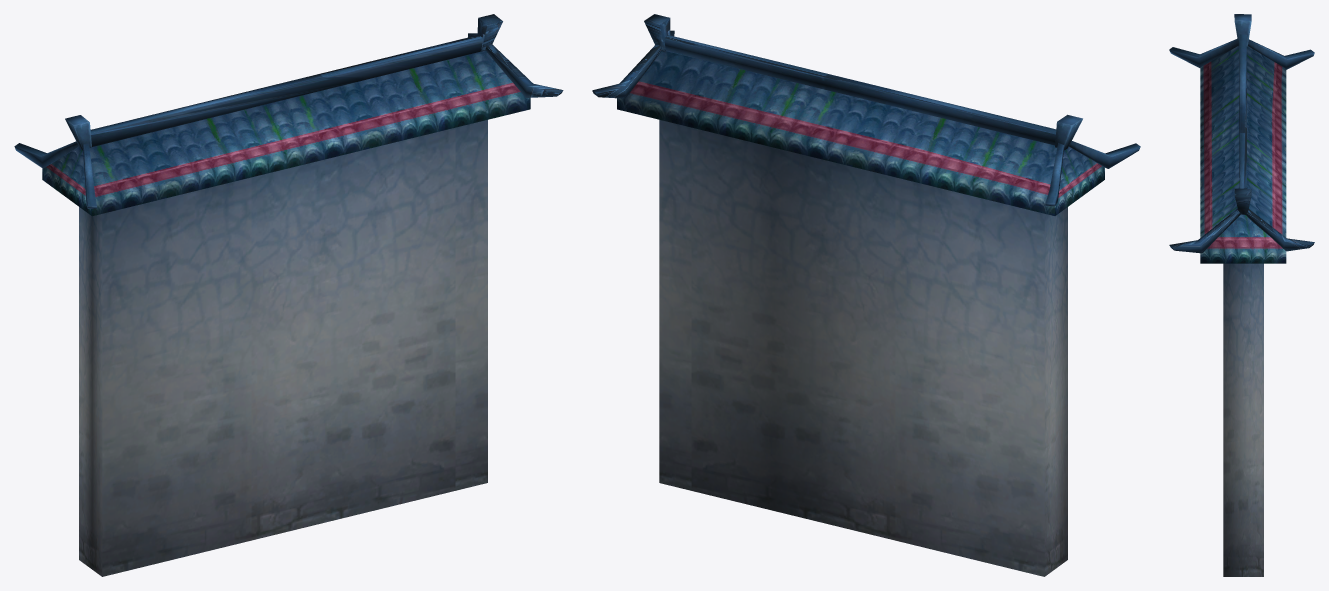
File: environment_building_qinghuacifangqiang_01_a.FBX
3 renders of one model, left to right at view 1: azimuth 30°, elevation 25°; view 2: azimuth 150°, elevation 25°; view 3: azimuth 270°, elevation 25°, orthographic. The views are drawn at different scales.
Parts seen in each view (by area): view 1: environment_building_qinghuacifangqiang_01_a2, environment_building_qinghuacifangqiang_01_a0, environment_building_qinghuacifangqiang_01_a1; view 2: environment_building_qinghuacifangqiang_01_a2, environment_building_qinghuacifangqiang_01_a0, environment_building_qinghuacifangqiang_01_a1; view 3: environment_building_qinghuacifangqiang_01_a0, environment_building_qinghuacifangqiang_01_a2, environment_building_qinghuacifangqiang_01_a1.
Part boxes in pixels (x1,y1,x2,y2): environment_building_qinghuacifangqiang_01_a2: (79,120,487,576); environment_building_qinghuacifangqiang_01_a0: (42,50,530,216); environment_building_qinghuacifangqiang_01_a1: (14,14,563,208); environment_building_qinghuacifangqiang_01_a2: (659,120,1067,576); environment_building_qinghuacifangqiang_01_a0: (617,51,1104,215); environment_building_qinghuacifangqiang_01_a1: (592,14,1140,206); environment_building_qinghuacifangqiang_01_a0: (1200,46,1286,263); environment_building_qinghuacifangqiang_01_a2: (1223,263,1263,576); environment_building_qinghuacifangqiang_01_a1: (1169,14,1314,253).
Size of the model in its own units: 242 by 219 by 74.16.
Materials: 3 (3 with a texture image).
